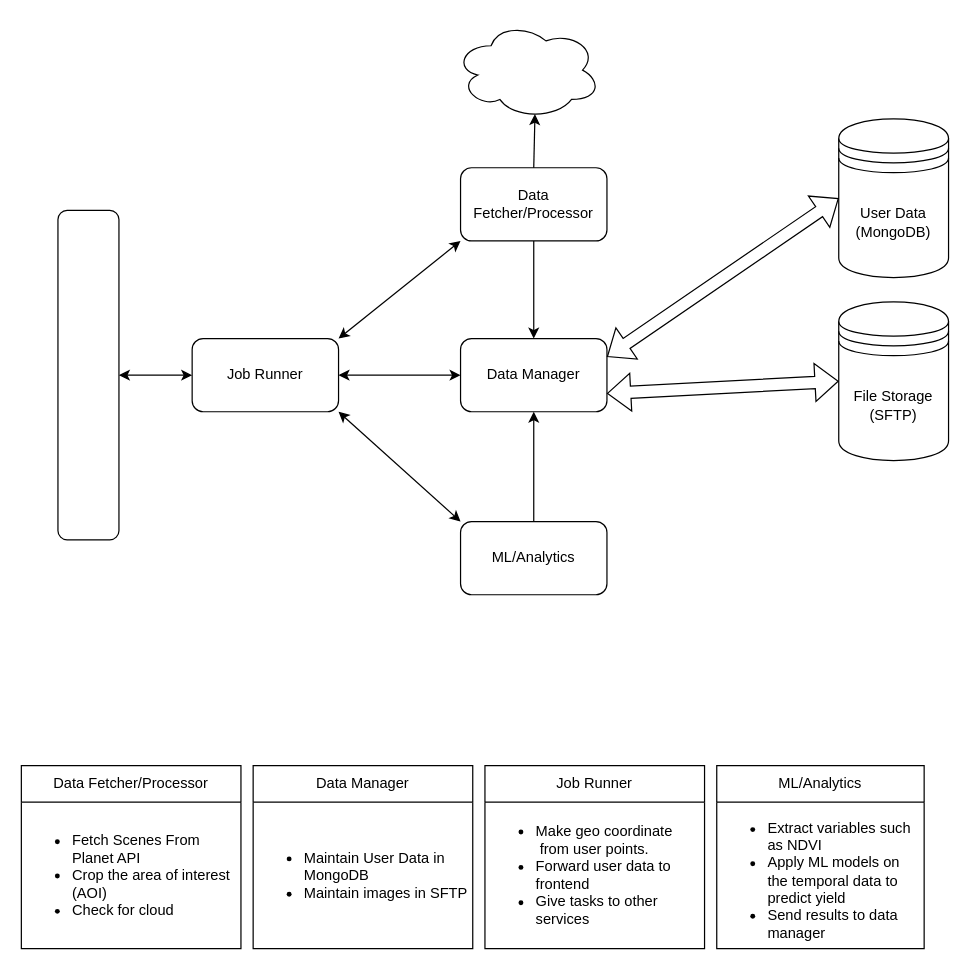
This 970x970 diagram has some shape labels left out. Here are the shapes that lost their labels. From the top down, the centre of each, then its label:
the point at 527,69: Planet
the point at 88,374: Frontend
